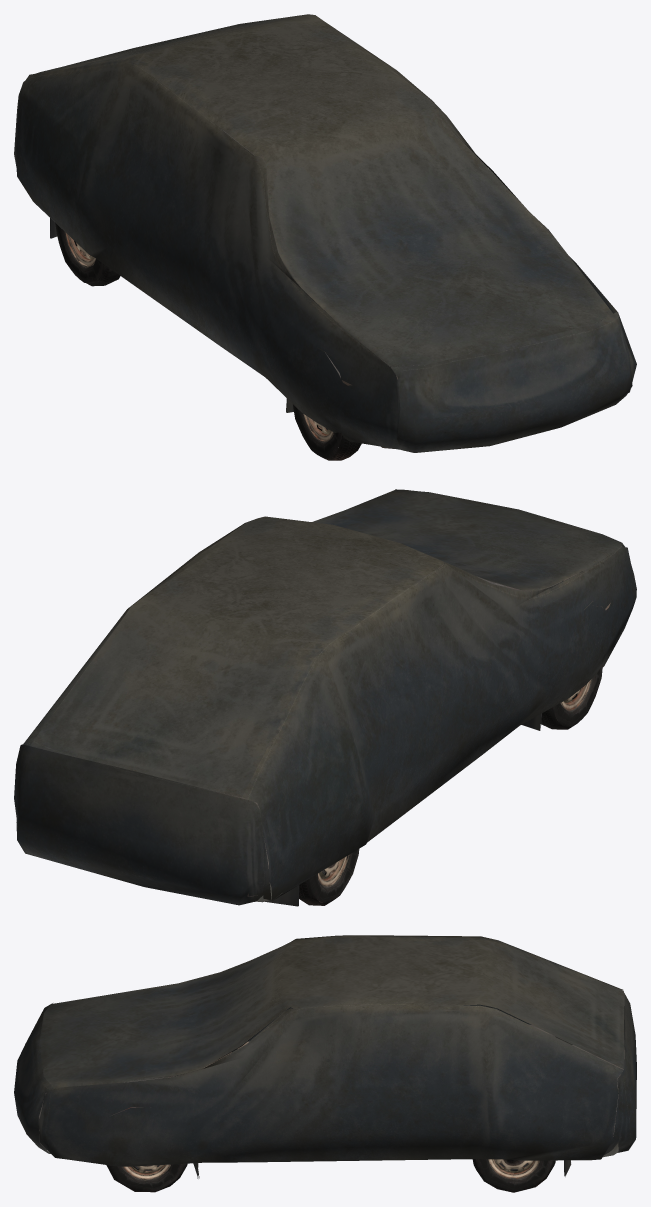
File: covered_car.glb
The picture shows the model from 3 angles, top to bottom: view 1: azimuth 30°, elevation 25°; view 2: azimuth 150°, elevation 25°; view 3: azimuth 270°, elevation 25°; orthographic projection. The views are drawn at different scales.
Visible parts, largest first — view 1: covered_car, covered_car_wheel_02, covered_car_wheel_03; view 2: covered_car, covered_car_wheel_03, covered_car_wheel_02; view 3: covered_car, covered_car_wheel_04, covered_car_wheel_01.
Boxes of the visible parts, x1=… form: covered_car: x1=14, y1=14, x2=636, y2=452; covered_car_wheel_02: x1=293, y1=404, x2=361, y2=460; covered_car_wheel_03: x1=55, y1=222, x2=120, y2=286; covered_car: x1=14, y1=489, x2=636, y2=906; covered_car_wheel_03: x1=299, y1=849, x2=359, y2=905; covered_car_wheel_02: x1=540, y1=665, x2=602, y2=729; covered_car: x1=14, y1=935, x2=636, y2=1178; covered_car_wheel_04: x1=472, y1=1159, x2=555, y2=1192; covered_car_wheel_01: x1=106, y1=1163, x2=187, y2=1192.
Size of the model in its own units: 1.8 by 1.41 by 4.37.
2 materials, 2 textured.
